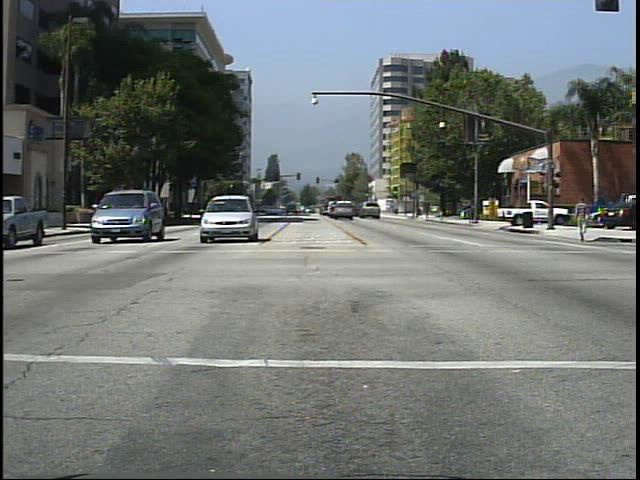person: (573, 193, 596, 246)
